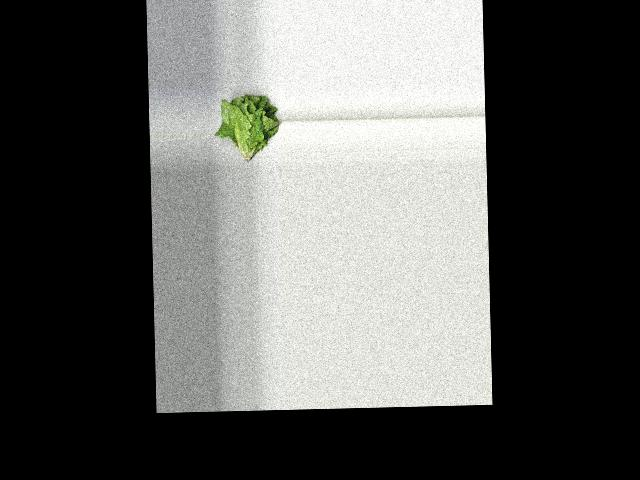lettuce: (214, 93, 280, 163)
